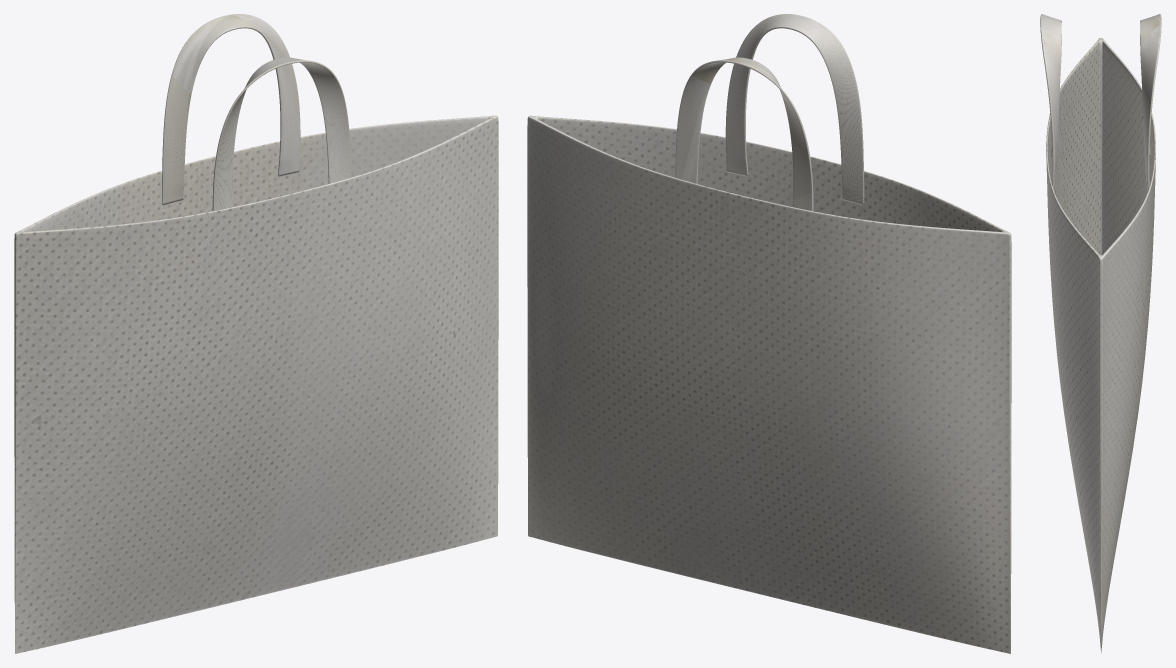
3 renders of one model, left to right at view 1: azimuth 30°, elevation 25°; view 2: azimuth 150°, elevation 25°; view 3: azimuth 270°, elevation 25°, orthographic. The views are drawn at different scales.
Parts seen in each view (by area): view 1: Box076, 17341_Tote_bag_womens002_Material #114_0; view 2: Box076, 17341_Tote_bag_womens002_Material #114_0; view 3: Box076, 17341_Tote_bag_womens002_Material #114_0.
Boxes of the visible parts, x1,y1,x2,y2 form: Box076: (14,115,498,653); 17341_Tote_bag_womens002_Material #114_0: (162,14,350,210); Box076: (527,115,1011,653); 17341_Tote_bag_womens002_Material #114_0: (675,14,864,211); Box076: (1046,38,1155,653); 17341_Tote_bag_womens002_Material #114_0: (1040,14,1161,191).
Bounding box in the file's own units: 601 × 661 × 139.
Materials: 1 (1 with a texture image).
